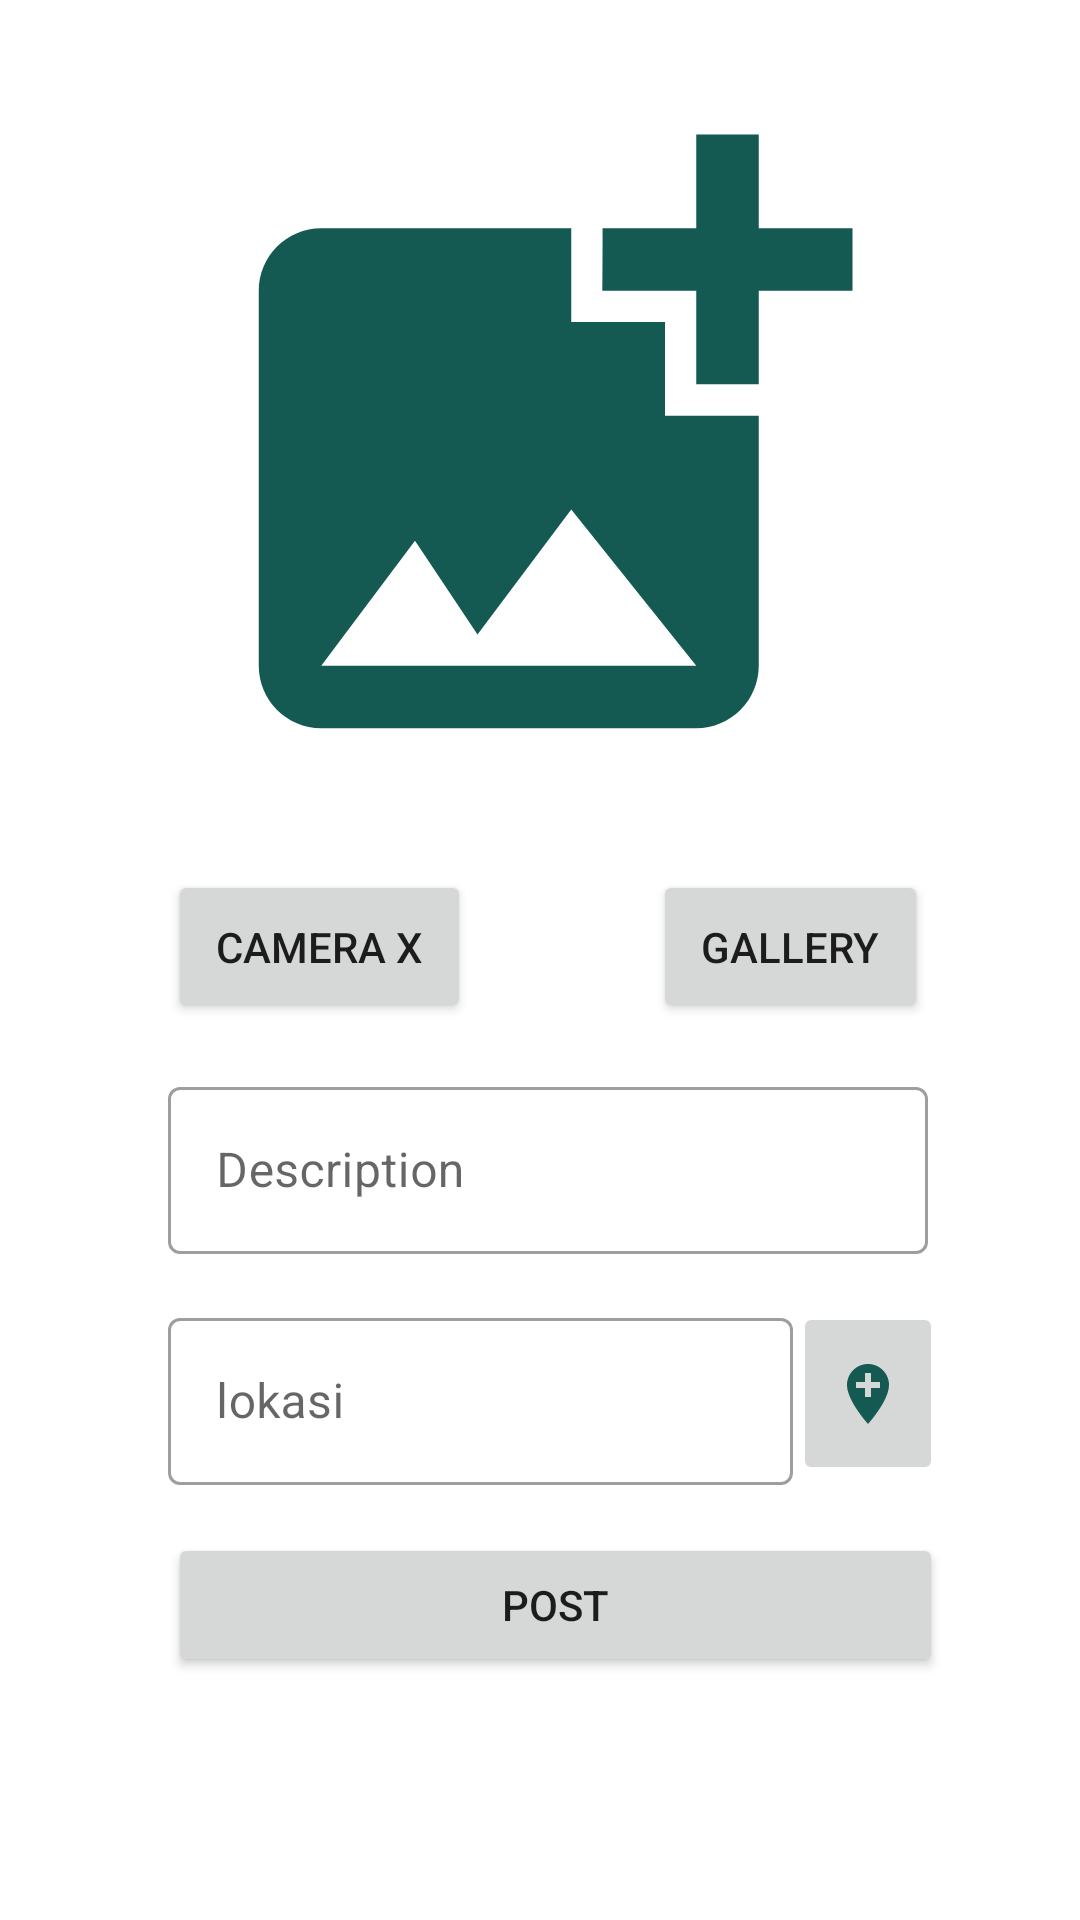

Named icons in this screenshot (1080×1920) and their bounding boxes, (x1, y1, x2, y2):
add location: (805, 1320, 931, 1467)
